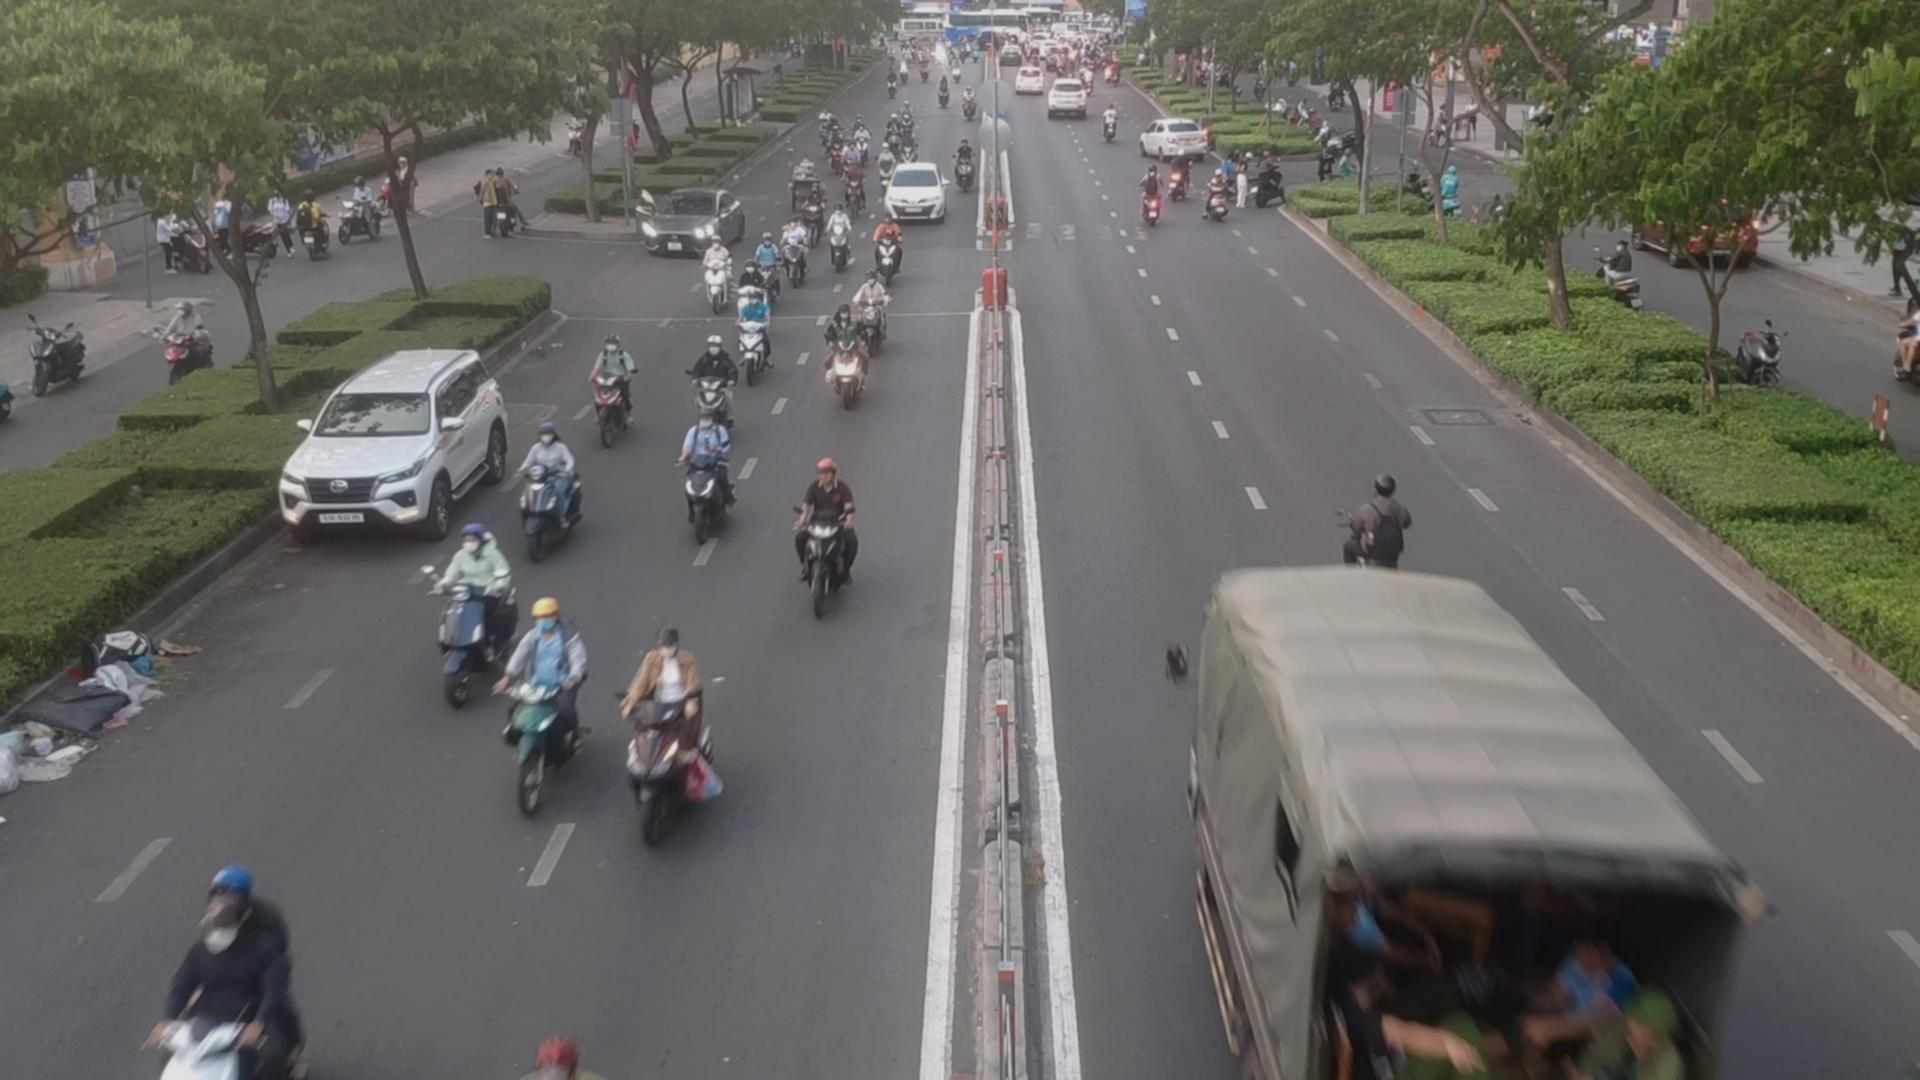car: (1142, 568, 1727, 1080), (281, 353, 517, 545), (636, 190, 746, 261), (884, 165, 949, 225), (1145, 119, 1216, 160)
motorbike: (152, 878, 303, 1080), (501, 575, 597, 827), (626, 624, 712, 835), (438, 520, 516, 705), (513, 425, 583, 556), (1327, 472, 1411, 570), (798, 456, 843, 616), (679, 415, 735, 541), (592, 336, 640, 448), (825, 307, 866, 402), (741, 295, 775, 392), (695, 236, 736, 313), (852, 276, 884, 345), (876, 212, 898, 284), (756, 228, 781, 291), (781, 218, 803, 286), (829, 206, 852, 273), (1203, 165, 1228, 223), (1139, 171, 1164, 225), (952, 142, 977, 193), (1164, 152, 1189, 202), (804, 193, 825, 243), (872, 142, 895, 186), (843, 165, 864, 214), (903, 131, 923, 179), (881, 113, 899, 153), (828, 132, 841, 171), (858, 125, 870, 156)
